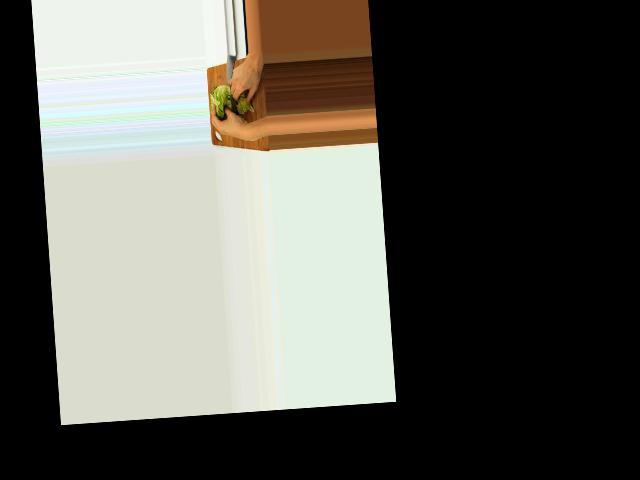lettuce: (210, 83, 235, 118)
